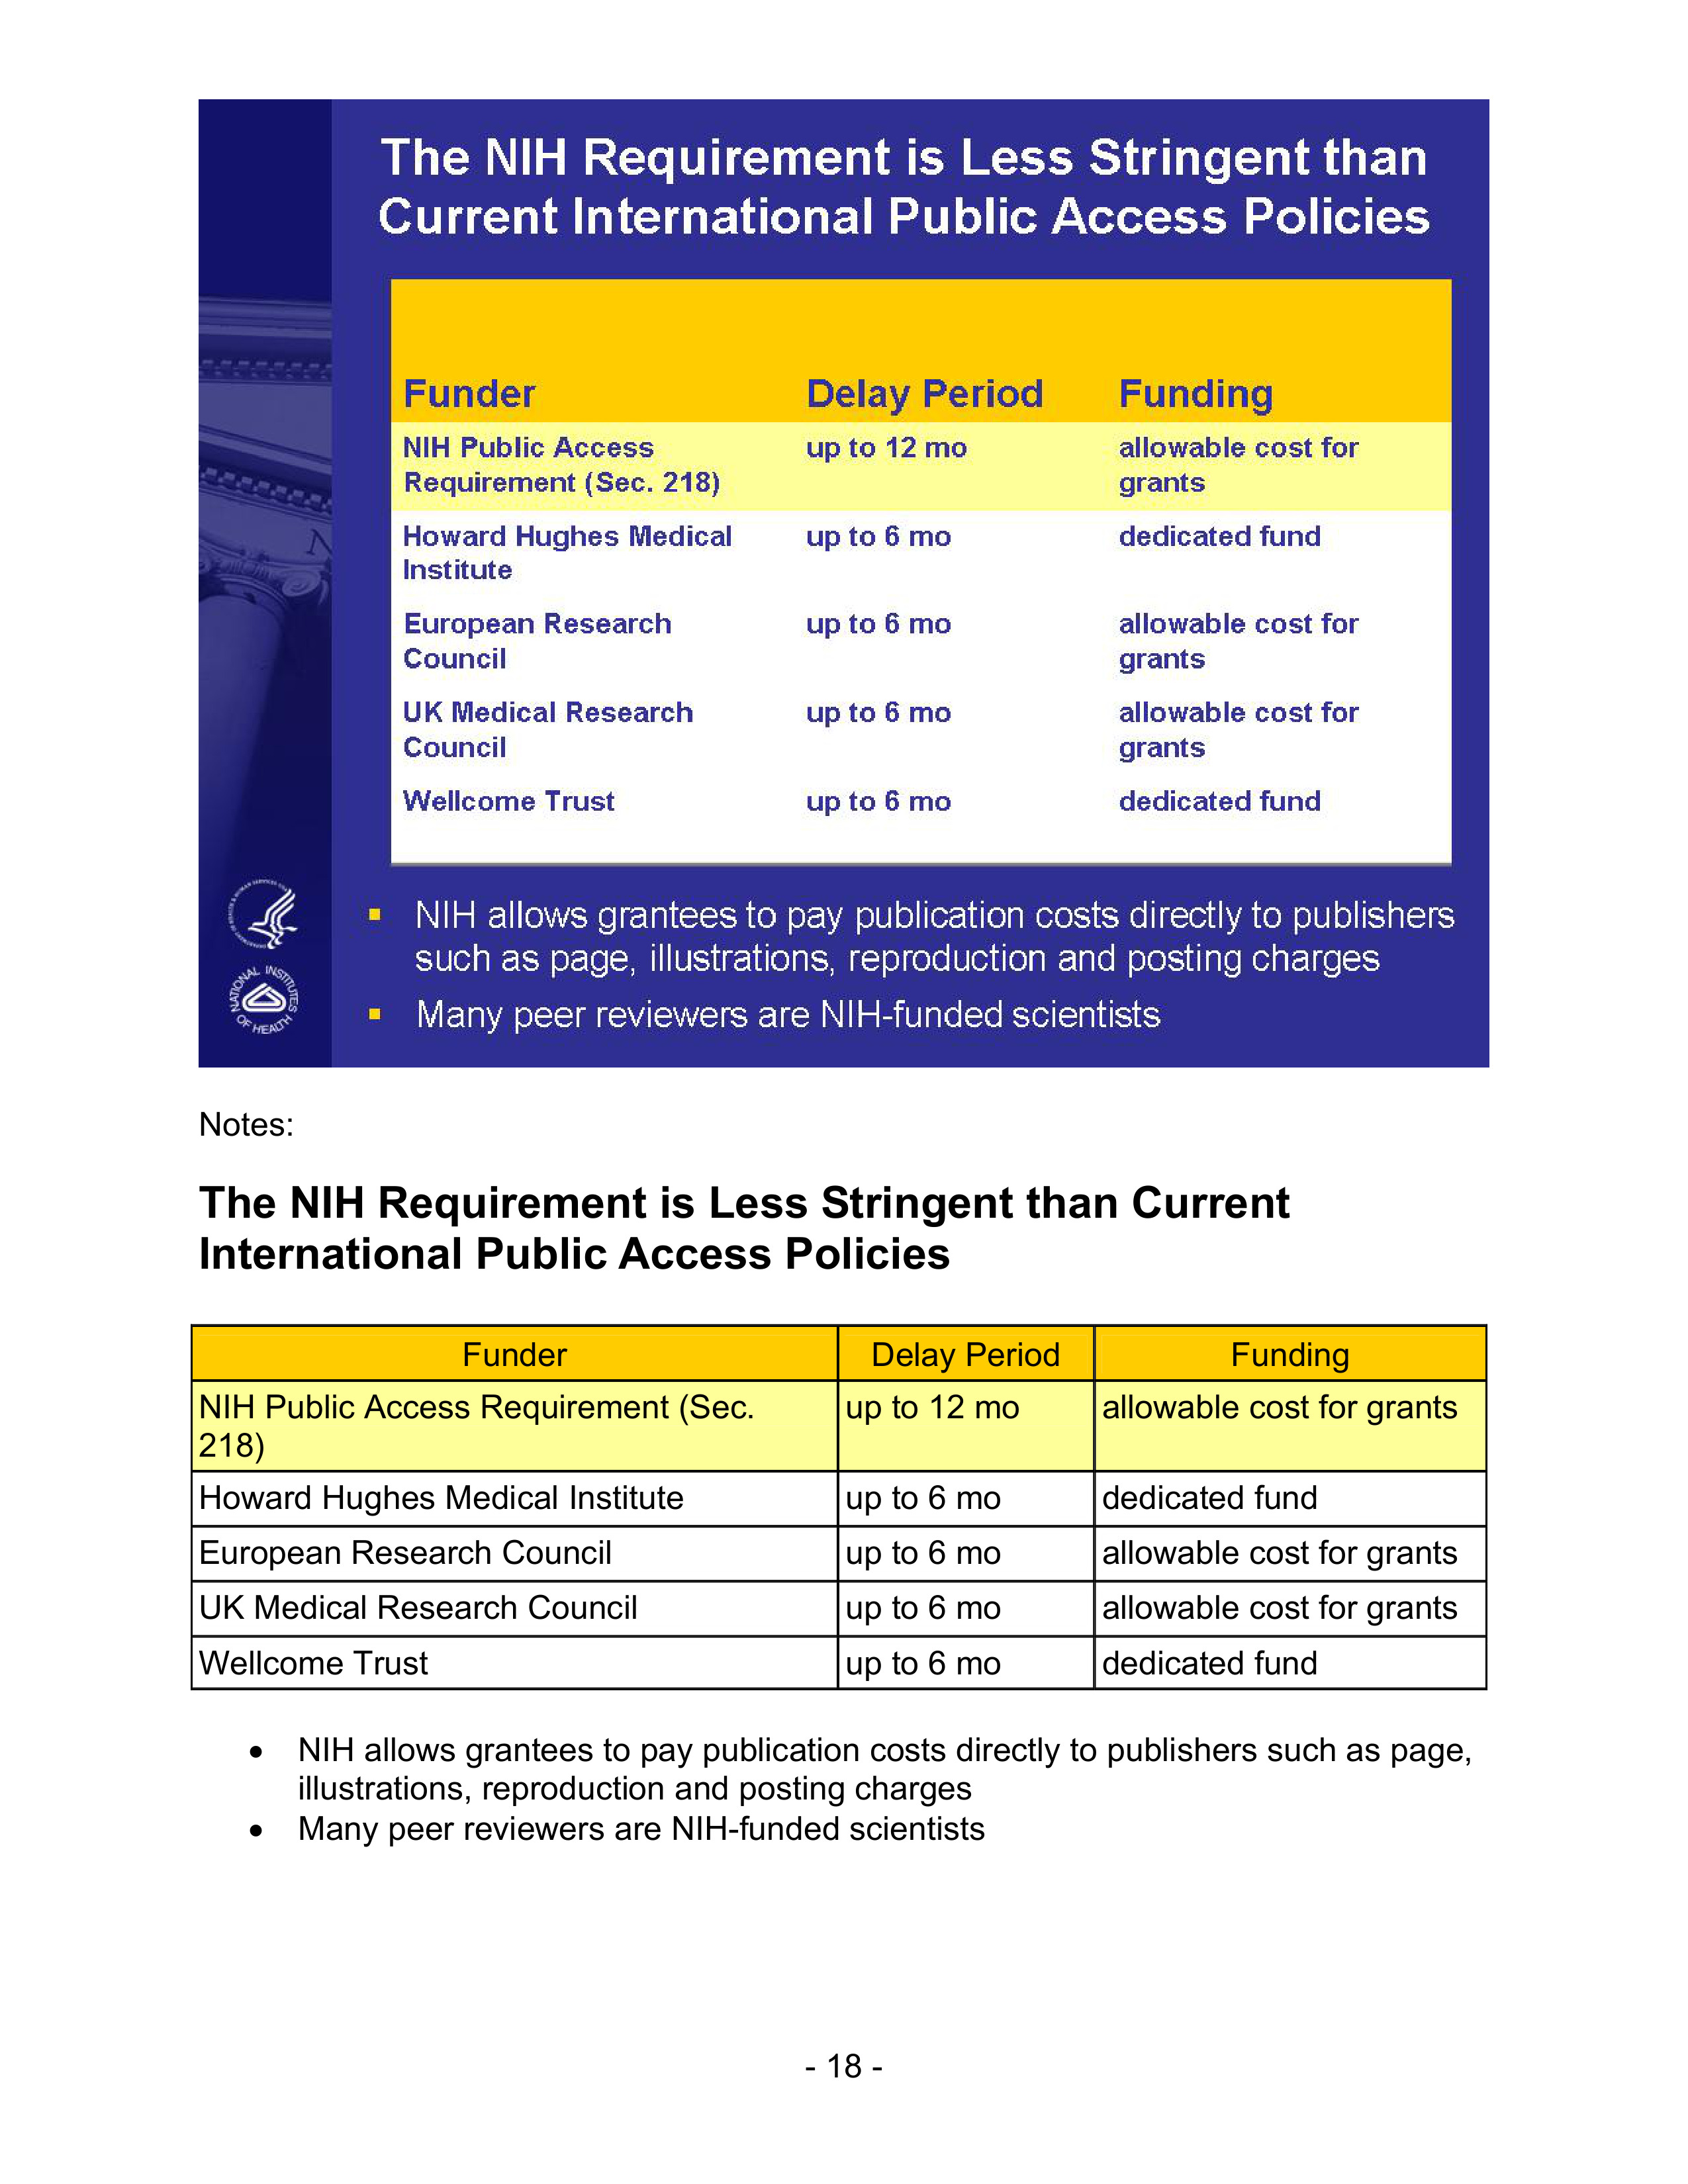table: (199, 1335, 1457, 1681)
